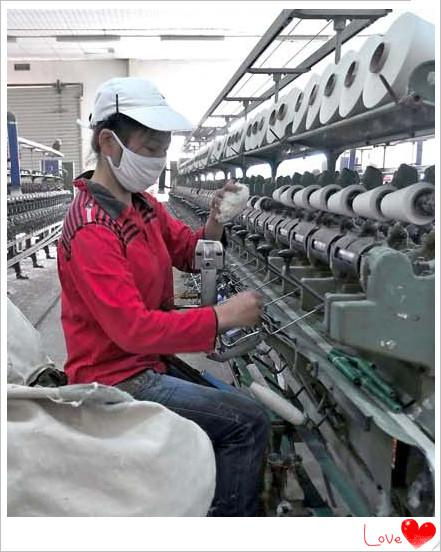OK: (112, 139, 167, 194)
